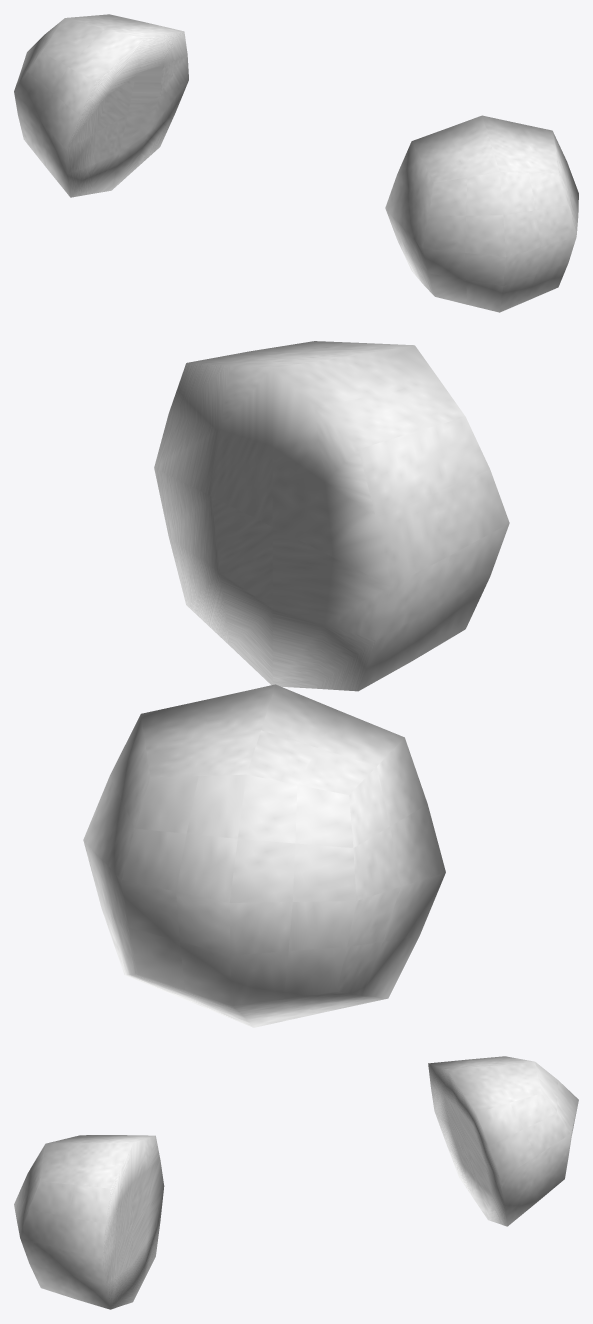
File: Egg_Broken.fbx
The picture shows the model from 3 angles, top to bottom: view 1: azimuth 30°, elevation 25°; view 2: azimuth 150°, elevation 25°; view 3: azimuth 270°, elevation 25°; orthographic projection. The views are drawn at different scales.
Visible parts, largest first — view 1: Egg_Burnt.001; view 2: Egg_Burnt.001; view 3: Egg_Burnt.001.
Part boxes in pixels (x1,y1,x2,y2): Egg_Burnt.001: (14, 14, 578, 312); Egg_Burnt.001: (83, 341, 509, 1027); Egg_Burnt.001: (14, 1056, 578, 1309).
Size of the model in its own units: 41.22 by 19.96 by 64.21.
